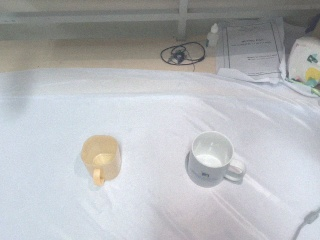cup: (185, 130, 235, 189), (81, 134, 122, 187)
